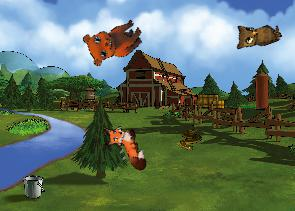bear: (77, 6, 148, 73)
fox: (99, 118, 149, 178)
owl: (230, 12, 283, 54)
